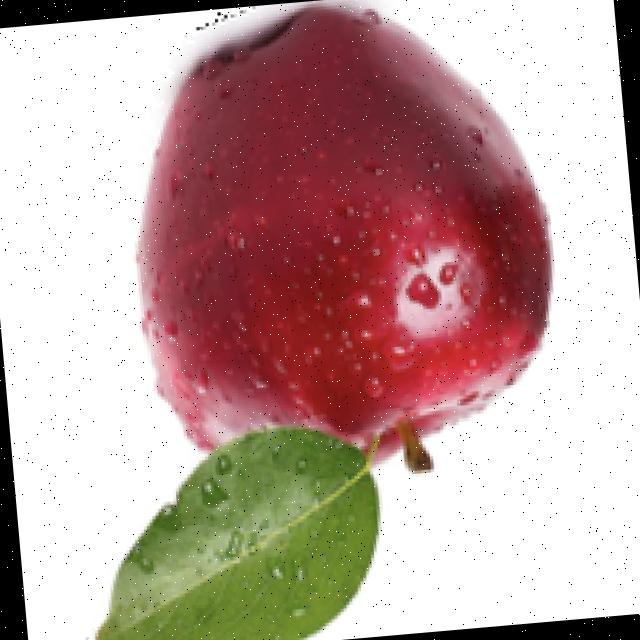apple: (84, 0, 558, 640)
